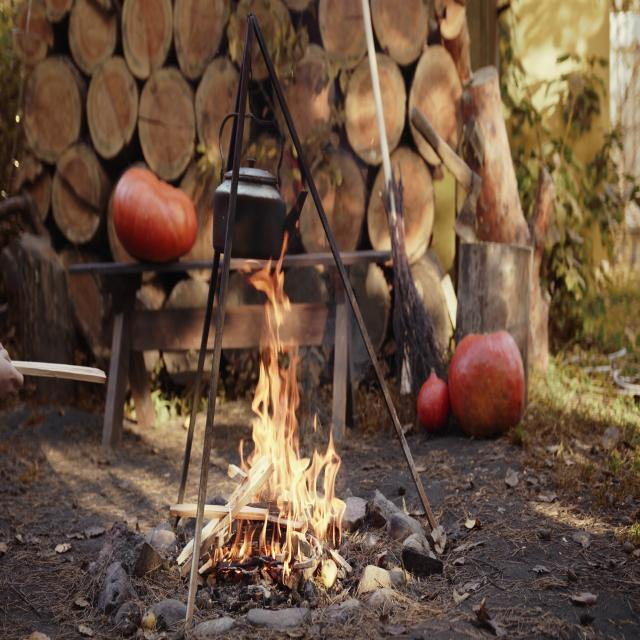Fire: (214, 243, 358, 587), (125, 386, 202, 440)
